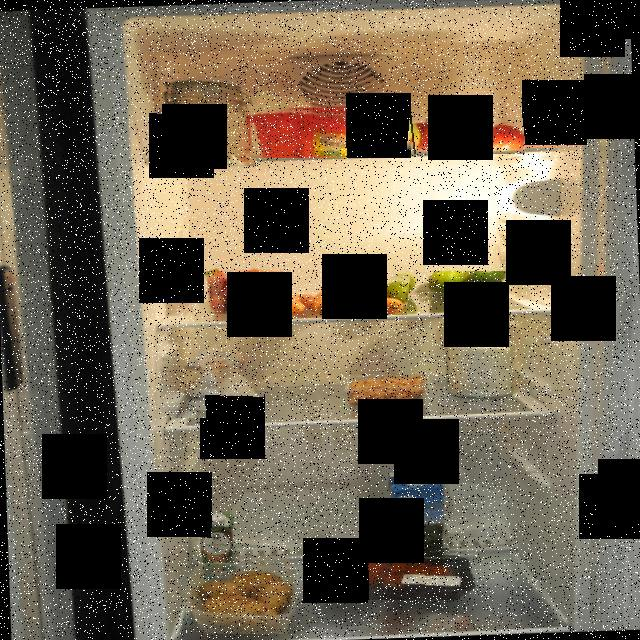apple: (356, 110, 420, 156)
beef: (306, 546, 478, 600)
butter: (245, 104, 374, 158)
carrot: (280, 270, 410, 315)
flour: (151, 68, 257, 166), (164, 337, 264, 418)
heavy_cream: (199, 510, 236, 578)
lime: (381, 271, 509, 304)
milk: (388, 467, 450, 564)
potato: (182, 553, 296, 634)
shrimp: (347, 374, 430, 408)
strawberries: (205, 262, 291, 314)
sugar: (444, 312, 517, 400)
tomato: (409, 110, 525, 154)
